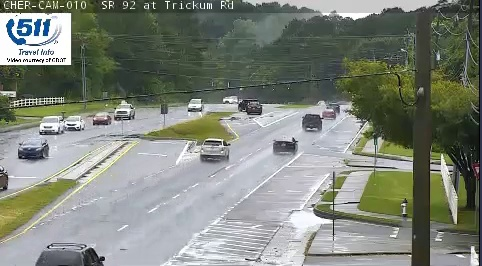car: (200, 139, 230, 159), (273, 136, 297, 151), (302, 113, 322, 130)
